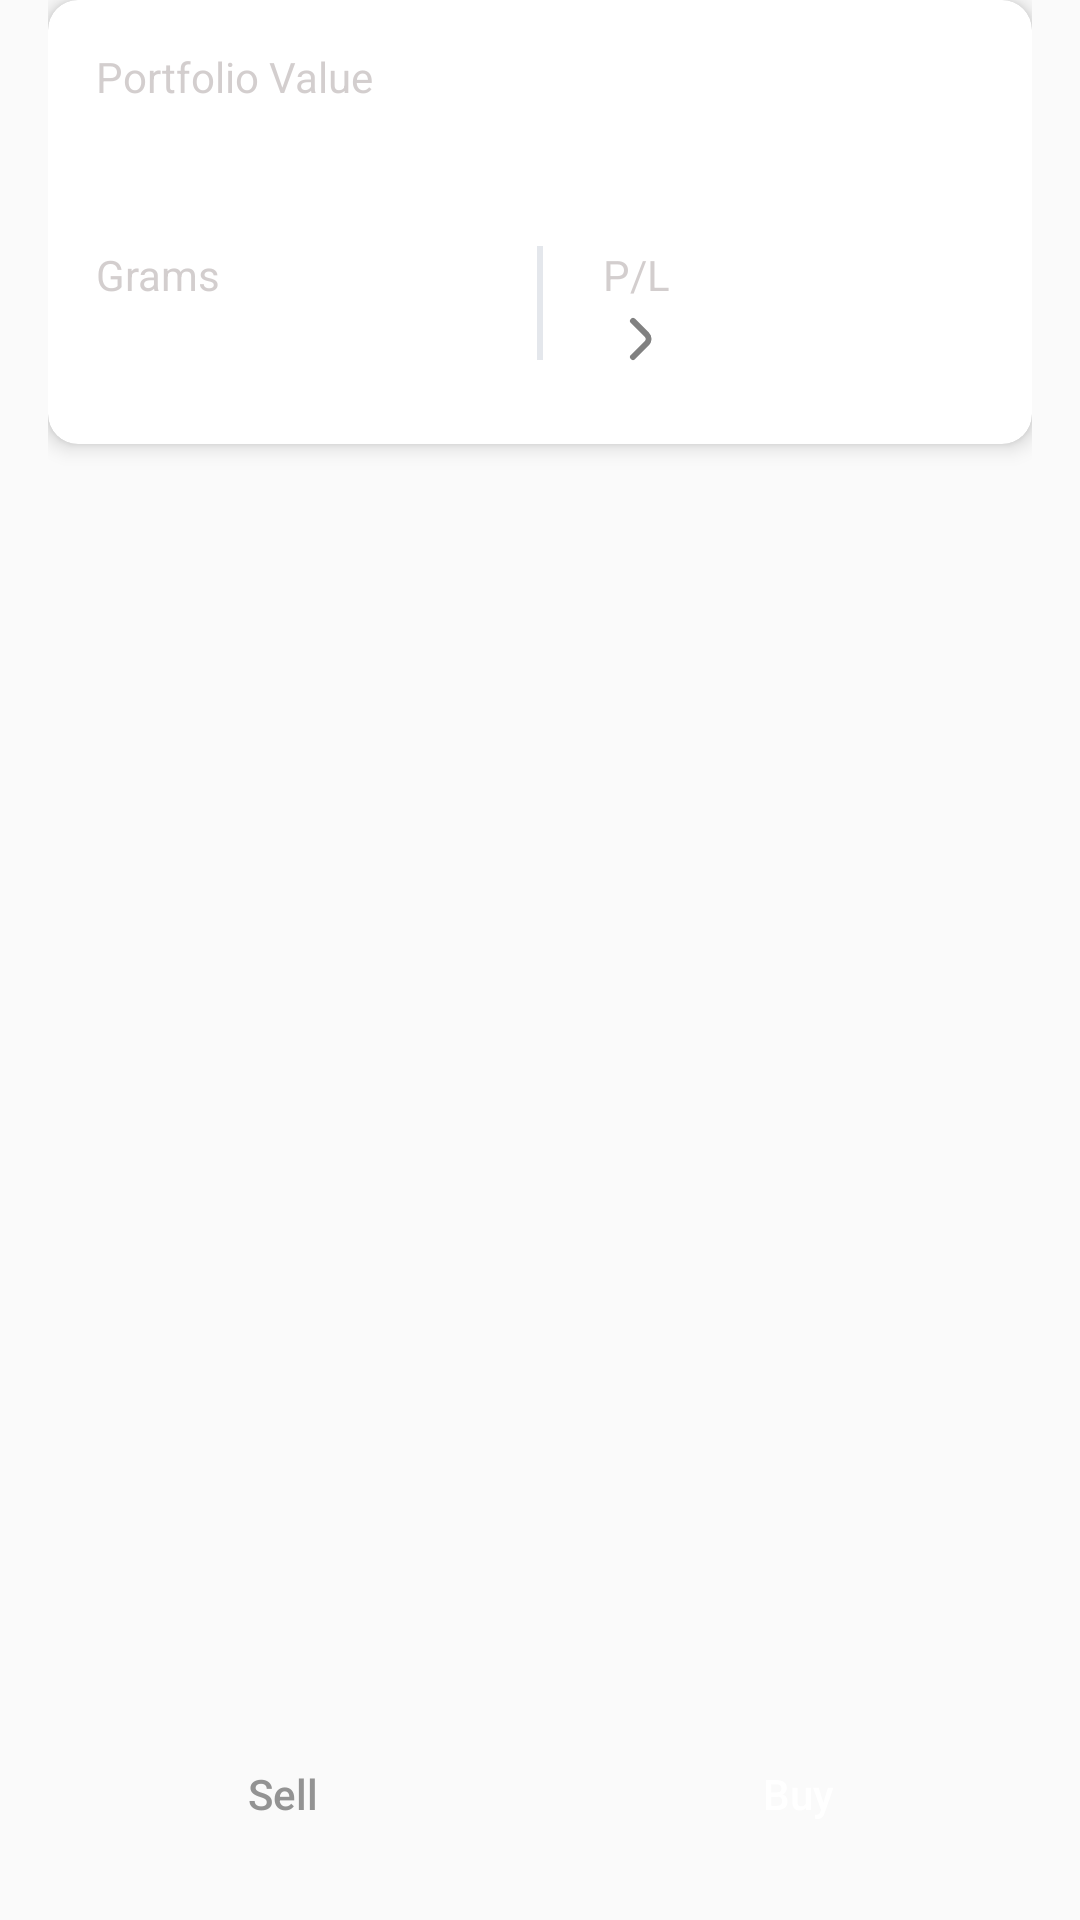

Locate icon controls on the screen. Image size 1080w x 1920h, boxes as (x1, y1, x2, y2).
view more: (630, 318, 652, 360)
